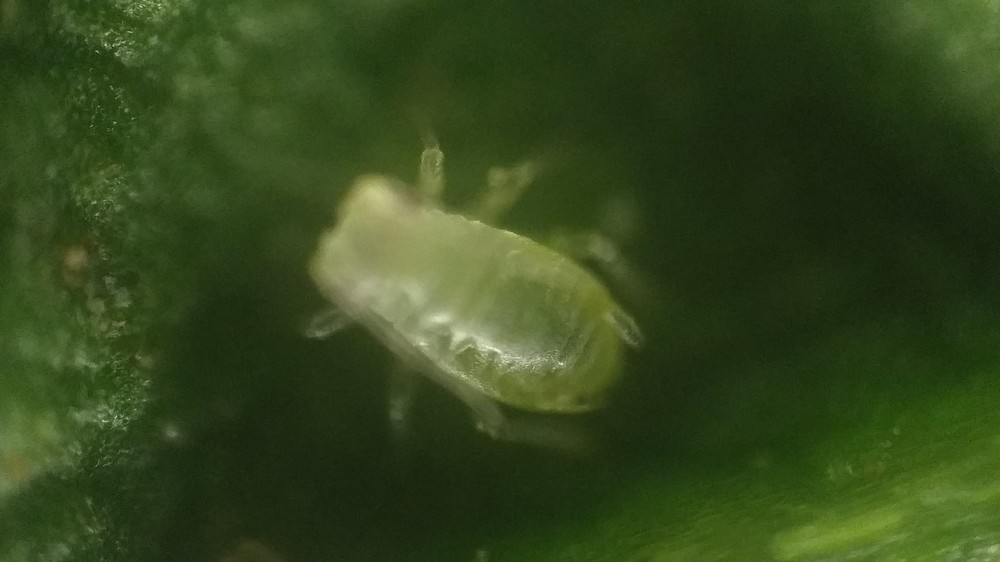Pulgon: (242, 107, 706, 491)
